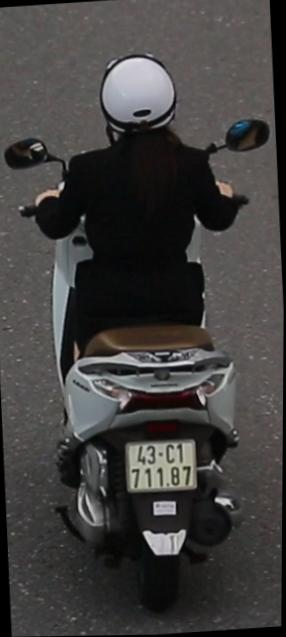LP: (121, 435, 203, 503)
helmet: (94, 45, 185, 154)
